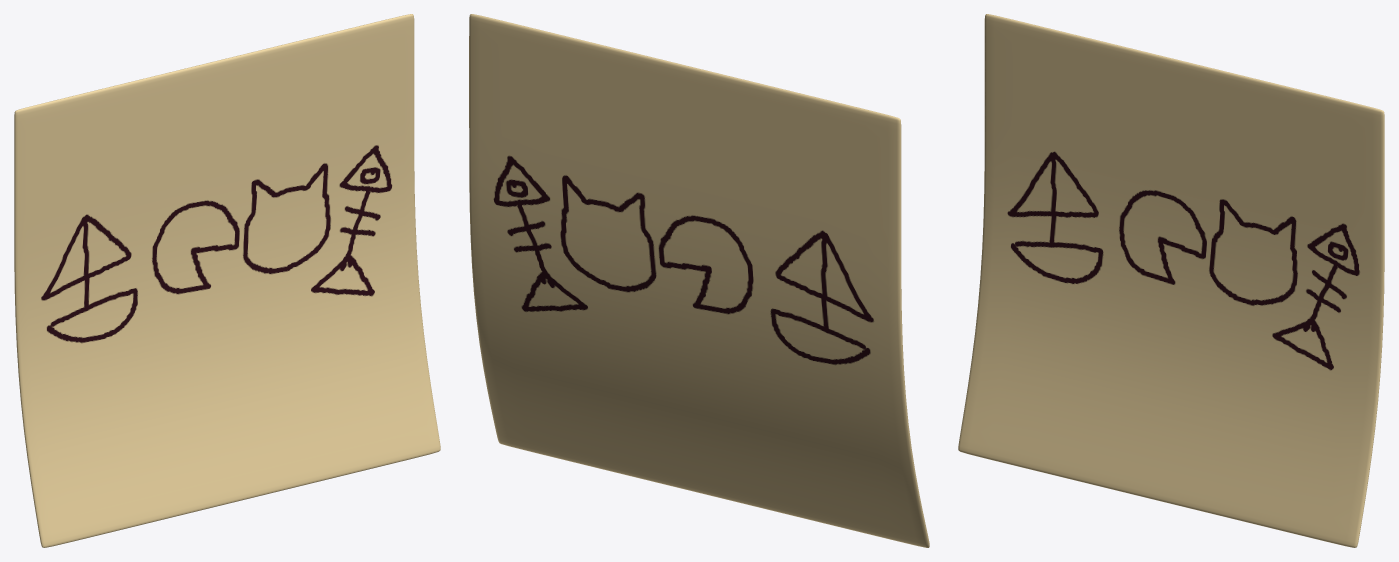
The model's file is note.fbx.
3 views of the same model, side by side, from view 1: azimuth 30°, elevation 25°; view 2: azimuth 150°, elevation 25°; view 3: azimuth 330°, elevation 25° (orthographic). The views are drawn at different scales.
Parts seen in each view (by area): view 1: note; view 2: note; view 3: note.
Part boxes in pixels (bbox=[...]): note: bbox=[14, 14, 440, 547]; note: bbox=[469, 14, 929, 547]; note: bbox=[958, 14, 1384, 547].
Bounding box in the file's own units: 200 × 200 × 25.16.
